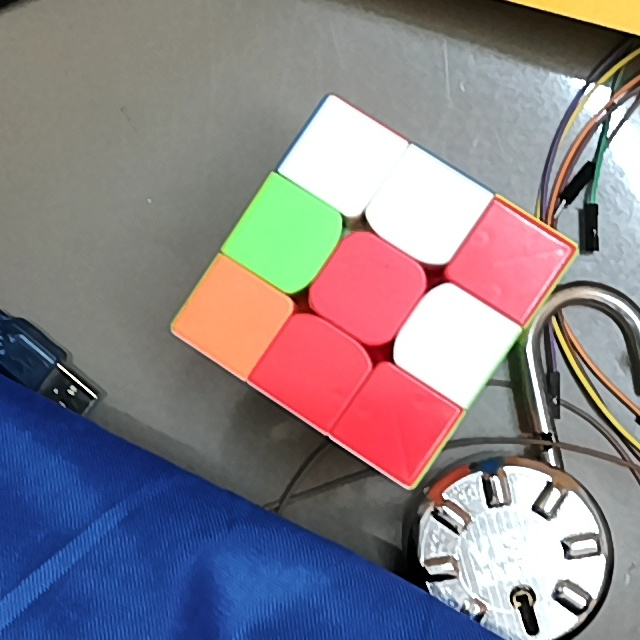tile: (280, 335, 347, 400), (419, 308, 484, 374), (336, 254, 401, 320), (365, 389, 432, 452), (395, 177, 459, 242), (255, 203, 318, 266), (310, 128, 374, 190), (202, 284, 264, 348), (478, 232, 538, 293)
